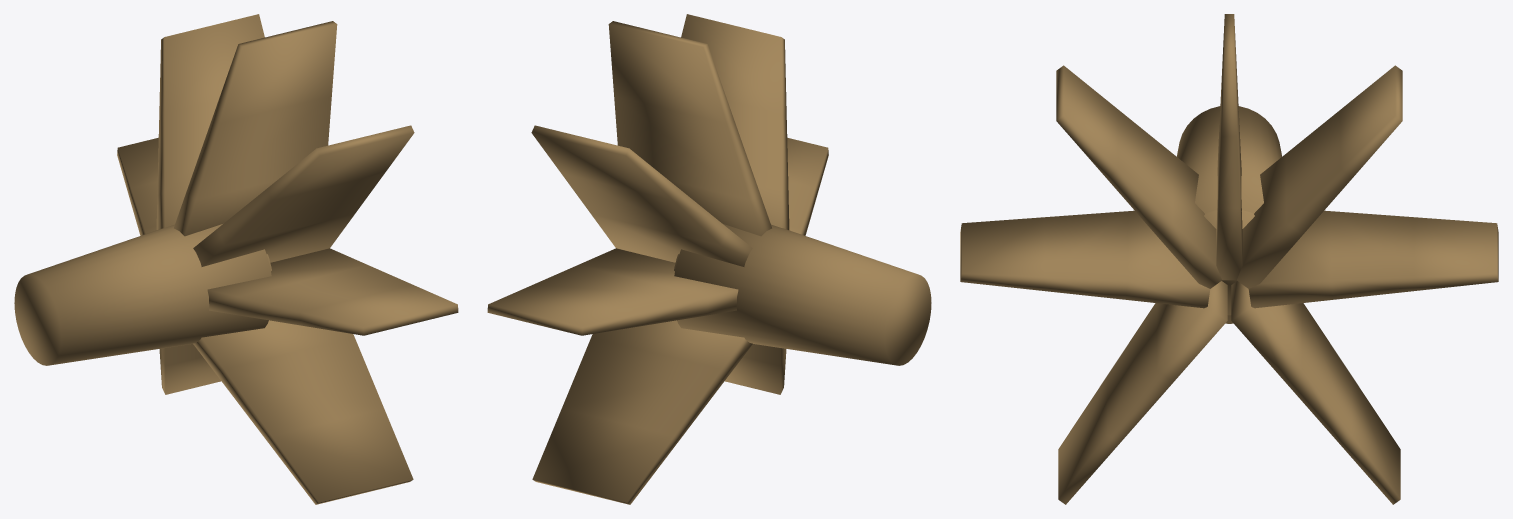
The model's file is US_SSBN_JamesMadison_PROPULSOR_01.fbx.
3 renders of one model, left to right at view 1: azimuth 30°, elevation 25°; view 2: azimuth 150°, elevation 25°; view 3: azimuth 270°, elevation 25°, orthographic. The views are drawn at different scales.
Visible parts, largest first — view 1: US_SSBN_JamesMadison_PROPULSOR_01; view 2: US_SSBN_JamesMadison_PROPULSOR_01; view 3: US_SSBN_JamesMadison_PROPULSOR_01.
Boxes of the visible parts, x1=… form: US_SSBN_JamesMadison_PROPULSOR_01: x1=14, y1=14, x2=458, y2=504; US_SSBN_JamesMadison_PROPULSOR_01: x1=487, y1=14, x2=931, y2=504; US_SSBN_JamesMadison_PROPULSOR_01: x1=960, y1=14, x2=1498, y2=504.
Bounding box in the file's own units: 2.2 × 3.16 × 2.86.
